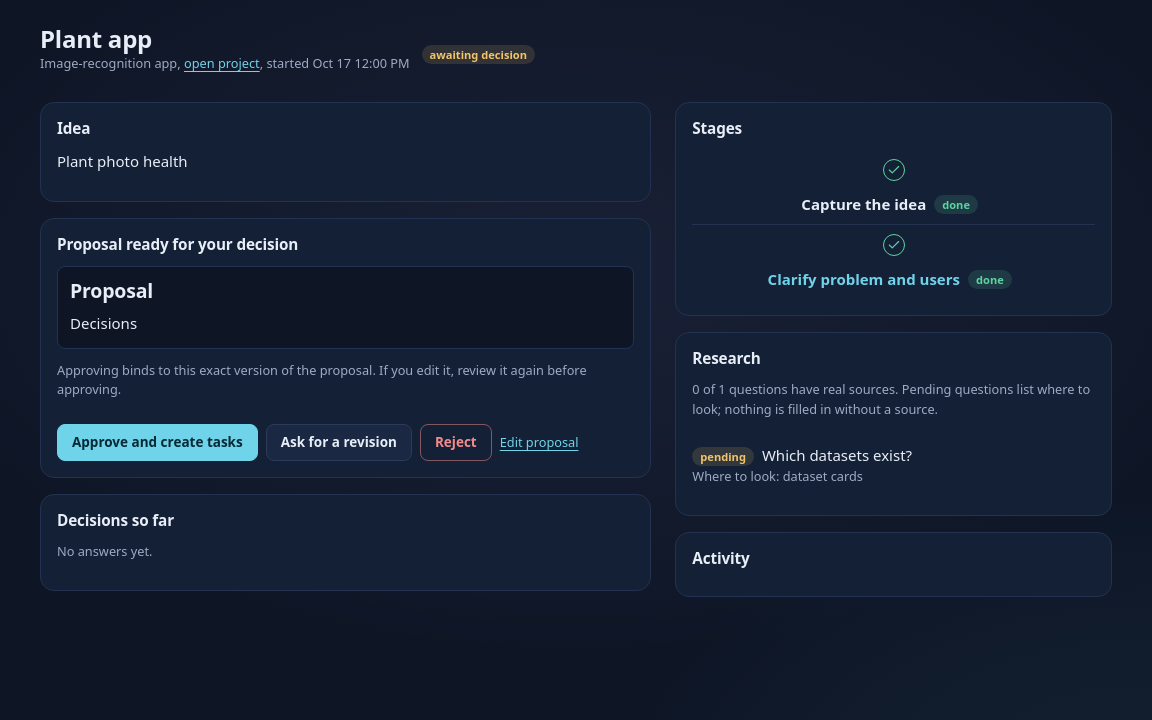
Test: workflow page › approves the exact proposal version and shows pending research honestly
Expected: the text "0 of 1 questions have real sources" is shown, [692,380,1095,420]
Expected: the text "Where to look: dataset cards" is shown, [692,467,863,485]
Click the button "Approve and create tasks" at [157, 443], box [57,424,258,461]
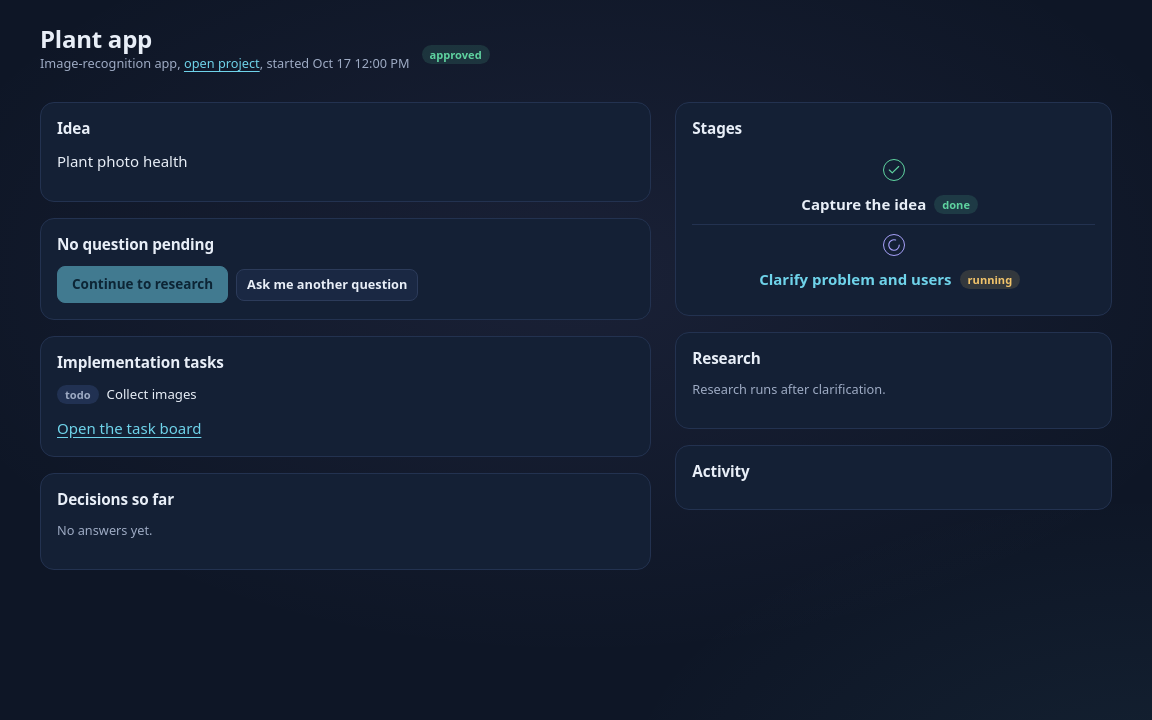
Now the list item "Collect images" is shown, box [107,385,197,403]
